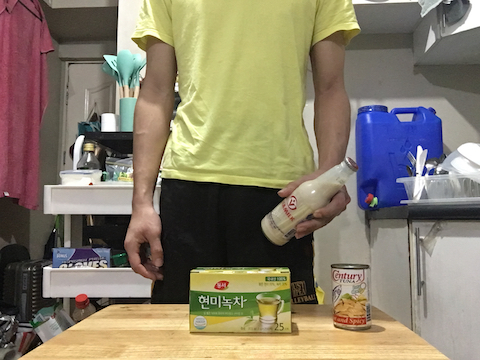bottle: (258, 152, 358, 246)
box: (187, 263, 295, 333)
can: (330, 260, 372, 332)
grab: (277, 173, 349, 241)
